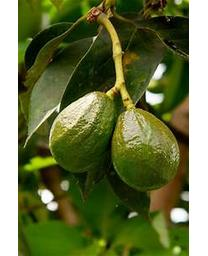avocado: (111, 105, 180, 191), (49, 90, 118, 172)
